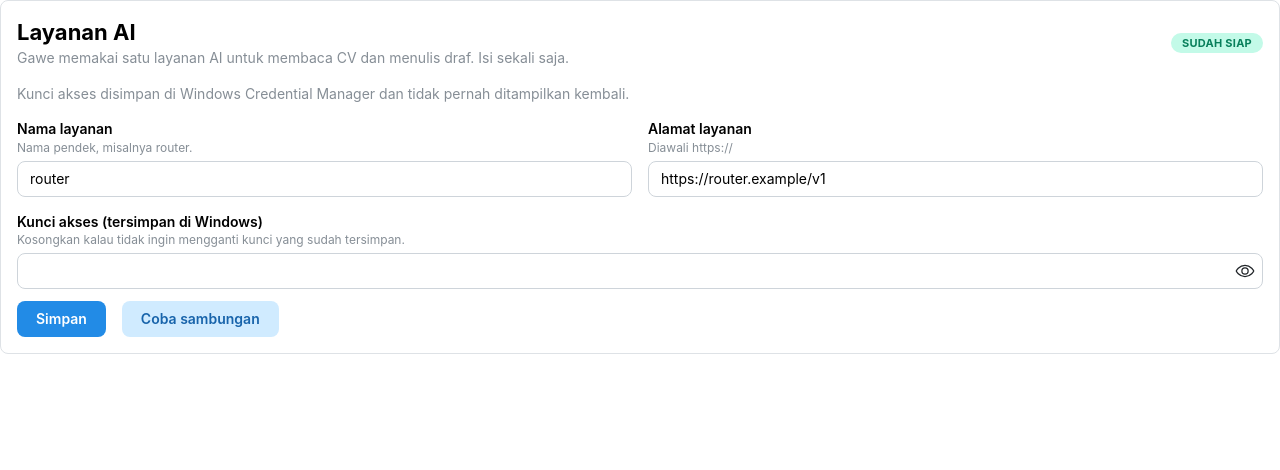
Scenario: ProviderSettings › shows a readable error when the endpoint is rejected
Check: the field showing "https://router.example/v1" is shown, box [648,161,1263,197]
Click the button "Simpan": click(61, 319) [17,301,106,337]
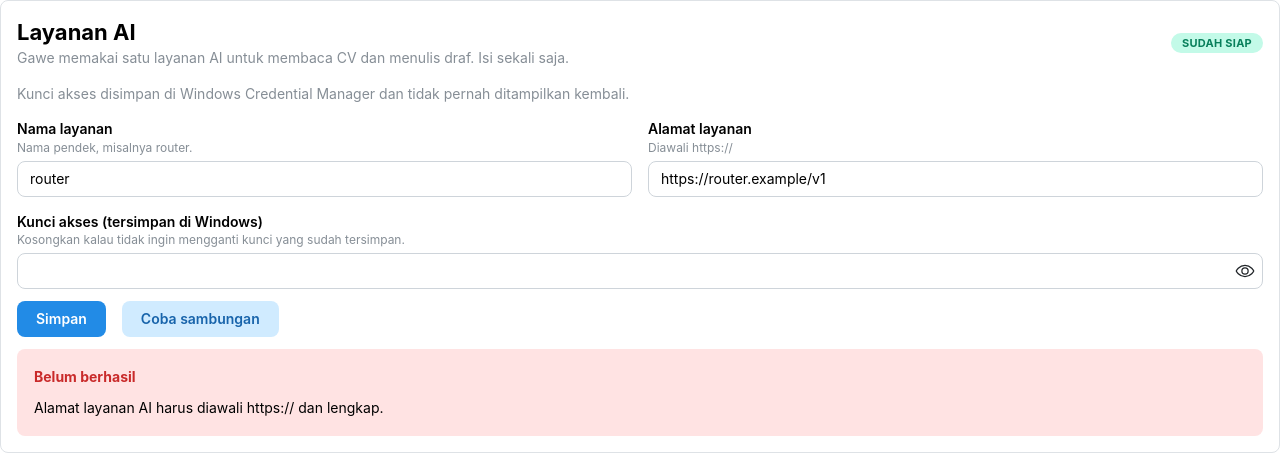
Check: the text "Alamat layanan AI harus diawali https:// dan lengkap." is shown, box [34,400,384,416]
